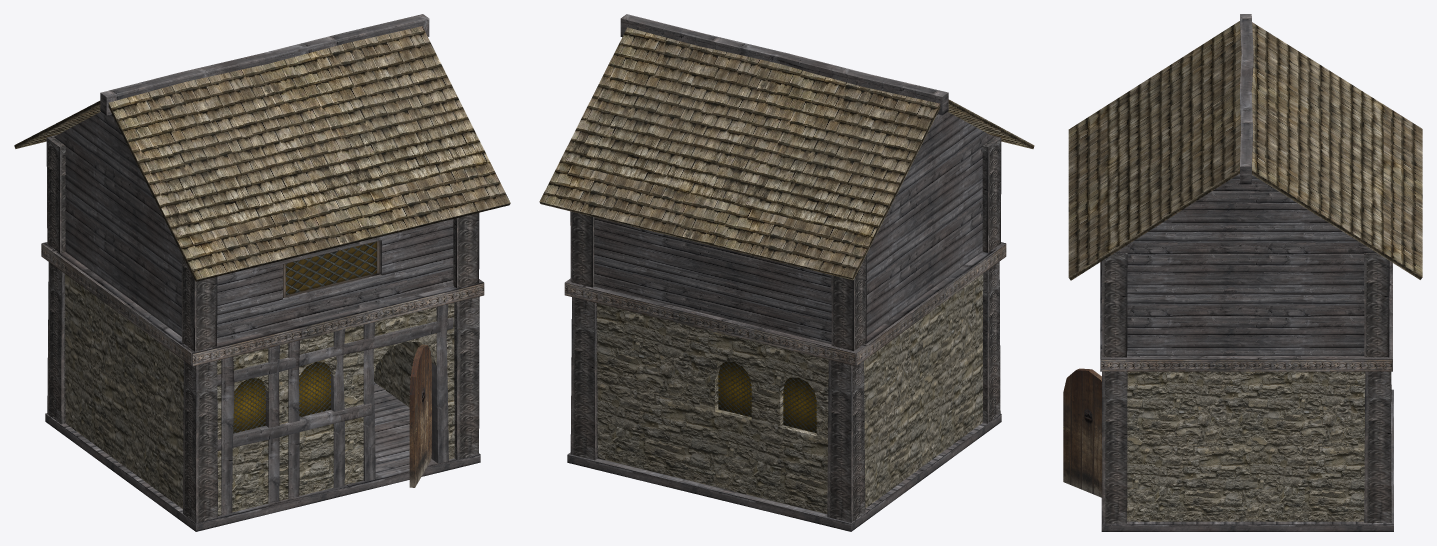
Rendered from v3_house5_LOD1.dae.
3 views of the same model, side by side, from view 1: azimuth 30°, elevation 25°; view 2: azimuth 150°, elevation 25°; view 3: azimuth 270°, elevation 25° (orthographic). The views are drawn at different scales.
Visible parts, largest first — view 1: roof_01, WoodPlanks, bricks_old_03, WoodPlanks_ornaments, windows2_c, dorwindow_set; view 2: roof_01, bricks_old_03, WoodPlanks, WoodPlanks_ornaments, windows2_c; view 3: roof_01, WoodPlanks, bricks_old_03, WoodPlanks_ornaments, dorwindow_set.
Part boxes in pixels (x1,y1,x2,y2): roof_01: (14, 26, 510, 281); WoodPlanks: (45, 14, 480, 531); bricks_old_03: (65, 274, 454, 515); WoodPlanks_ornaments: (41, 135, 484, 523); windows2_c: (233, 240, 380, 433); dorwindow_set: (409, 344, 431, 487); roof_01: (539, 27, 1034, 280); bricks_old_03: (597, 274, 983, 513); WoodPlanks: (567, 14, 1001, 531); WoodPlanks_ornaments: (564, 135, 1006, 522); windows2_c: (718, 361, 816, 433); roof_01: (1068, 21, 1422, 280); WoodPlanks: (1101, 14, 1393, 531); bricks_old_03: (1127, 371, 1365, 521); WoodPlanks_ornaments: (1100, 253, 1392, 523); dorwindow_set: (1063, 368, 1102, 497).
Size of the model in its own units: 4.97 by 5.7 by 4.95.
